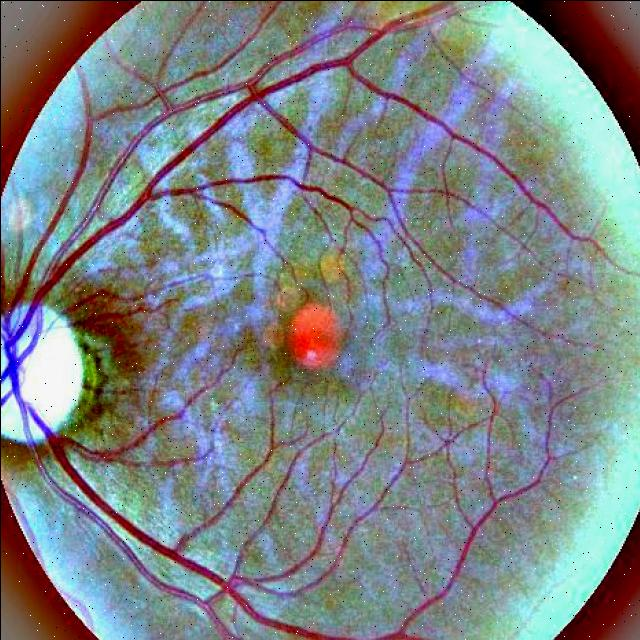Macula: (258, 266, 369, 385)
Nerves: (0, 21, 561, 640)
Optic Disk: (0, 258, 133, 487)
